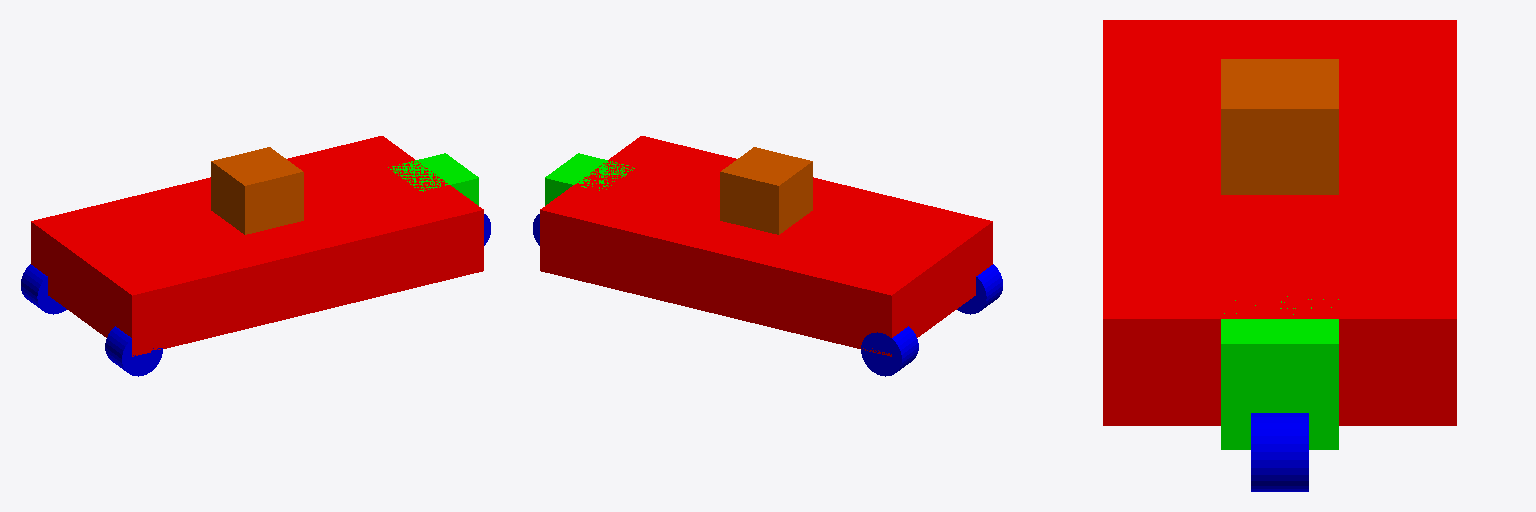
The robot description file, URDF, robot "explorer":
<?xml version="1.0" ?>
    <robot name="explorer">
        <!--<link name="world"/> -->

        <link name="base">
            <visual>
                <geometry>
                    <box size="0.6 0.3 0.1"/>
                </geometry> 

                <material name = "red">
                    <color rgba="1 0 0 1"/>
                </material>
            </visual>

            <collision>
                <geometry>
                     <box size="0.6 0.3 0.1"/>
                </geometry> 
             </collision>

            <inertial>
                <mass value="1.0"/>
                <inertia ixx="0.00833" ixy="0" ixz="0" iyy="0.0308" iyz="0.0" izz="0.0375"/>
            </inertial> 

        </link>

        <!--<joint name="base_joint" type="fixed">
            <parent link="world"/>
            <child link="base"/>
        </joint>-->

        <link name="front_caster_of_wheel">
            <visual>
                <geometry>
                    <box size = "0.1 0.1 0.1"/>
                </geometry> 

                <material name = "Green">
                    <color rgba="0 1 0 1"/>
                </material>
            </visual>

            <collision>
                <geometry>
                     <box size="0.1 0.1 0.1"/>
                </geometry> 
             </collision>

            <inertial>
                <mass value="0.1"/>
                <inertia ixx="0.000167" ixy="0" ixz="0" iyy="0.000167" iyz="0.0" izz="0.000167"/>
            </inertial>


        </link>

        <joint name="front_caster_of_wheel_joint" type="continuous">
            <axis xyz="0.0 0.0 1"/>
            <parent link="base"/>
            <child link="front_caster_of_wheel"/>
            <origin xyz="0.3 0.0 0.0" rpy="0.0 0.0 0.0"/>
        </joint> 

        <link name="front_wheel">
            <visual>
                <geometry>
                    <cylinder radius="0.035" length="0.05"/>
                </geometry> 

                <material name = "Blue">
                    <color rgba="0 0 1 1"/>
                </material>
            </visual>

            <collision>
                <geometry>
                     <cylinder radius="0.035" length="0.05"/>
                </geometry> 
             </collision>

            <inertial>
                <mass value="0.1"/>
                <inertia ixx="5.1458e-5" ixy="0" ixz="0" iyy="5.1458e-5" iyz="0.0" izz="6.125e-5"/>
            </inertial>

        </link>

        <joint name="front_wheel_joint" type="continuous">
            <axis xyz="0.0 0.0 1"/>
            <parent link="front_caster_of_wheel"/>
            <child link="front_wheel"/>
            <origin xyz="0.05 0.0 -0.05" rpy="-1.5708 0.0 0.0"/>
        </joint> 

        <link name="right_wheel">
            <visual>
                <geometry>
                    <cylinder radius="0.035" length="0.05"/>
                </geometry> 

                <material name = "Blue">
                    <color rgba="0 0 1 1"/>
                </material>
            </visual>

            <collision>
                <geometry>
                    <cylinder radius="0.035" length="0.05"/>
                </geometry> 
             </collision>

            <inertial>
                <origin xyz="0.0 0.0 0.0" rpy="0.0 0.0 0.0"/>
                <mass value="0.1"/>
                <inertia ixx="5.1458e-5" ixy="0" ixz="0" iyy="5.1458e-5" iyz="0.0" izz="6.125e-5"/>
            </inertial>

        </link>

        <joint name="right_wheel_joint" type="continuous">
            <axis xyz="0.0 0.0 1"/>
            <parent link="base"/>
            <child link="right_wheel"/>
            <origin xyz="-0.2825 -0.125 -0.05" rpy="-1.5708 0.0 0.0"/>
        </joint> 

        <link name="left_wheel">
            <visual>
                <geometry>
                    <cylinder radius="0.035" length="0.05"/>
                </geometry> 

                <material name = "Blue">
                    <color rgba="0 0 1 1"/>
                </material>
            </visual>

            <collision>
                <geometry>
                     <cylinder radius="0.035" length="0.05"/>
                </geometry> 
             </collision>

            <inertial>
                <mass value="0.1"/>
                <inertia ixx="5.1458e-5" ixy="0" ixz="0" iyy="5.1458e-5" iyz="0.0" izz="6.125e-5"/>
            </inertial>

        </link>

        <joint name="left_wheel_joint" type="continuous">
            <axis xyz="0.0 0.0 1"/>
            <parent link="base"/>
            <child link="left_wheel"/>
            <origin xyz="-0.2825 0.125 -0.05" rpy="-1.5708 0.0 0.0"/>
        </joint> 

        <link name="laser_scanner">
            <visual>
                <geometry>
                    <box size="0.1 0.1 0.1"/>
                </geometry>
            </visual>
    
            <collision>
                <geometry>
                    <box size="0.1 0.1 0.1"/>
                </geometry>
            </collision>
    
            <inertial>
                <mass value="1e-5"/>
                <inertia ixx="1e-6" ixy="0" ixz="0.0" iyy="1e-6" iyz="0.0" izz="1e-6"/>
            </inertial>
        </link>
    
        <joint name="laser_scanner_joint" type="fixed">
            <axis xyz="0.0 1 0.0"/>
            <parent link="base"/>
            <child link="laser_scanner"/>
            <origin xyz="0.0 0.0 0.08" rpy="0.0 0.0 0.0"/>
        </joint>
    
        <gazebo reference="laser_scanner">
            <sensor type="ray" name="laser">
                <pose>0 0 0 0 0 0</pose>
                <visualize>true</visualize>
                <update_rate>40</update_rate>

                <ray>
                    <scan>
                        <horizontal>
                            <samples>720</samples>
                            <resolution>1</resolution>
                            <min_angle>-1.578</min_angle>
                            <max_angle>1.578</max_angle>
                        </horizontal>
                    </scan>
                    <range>
                        <min>0.1</min>
                        <max>10</max>
                        <resolution>0.1</resolution>
                    </range>
                </ray>

                <plugin name="Lidar" filename="libgazebo_ros_laser.so">
                    <topicName>scan</topicName>
                    <frameName>laser_scanner</frameName>
                </plugin>
                
            </sensor>
        </gazebo>

        <gazebo>
            <plugin name="explorer_bot_controller" filename="libgazebo_ros_diff_drive.so">
                <leftJoint>left_wheel_joint</leftJoint>
                <rightJoint>right_wheel_joint</rightJoint>
                <legacyMode>false</legacyMode>
                <robotBaseFrame>base</robotBaseFrame>
                <wheelSeparation>0.25</wheelSeparation>
                <wheelDiameter>0.07</wheelDiameter>
                <publishWheelJointState>true</publishWheelJointState>
                <odometryTopic>odom1</odometryTopic>
                <odometryFrame>odom</odometryFrame>
                <publishOdomTF>false</publishOdomTF>
            </plugin>
        </gazebo>

        <gazebo>
            <plugin name="joint_state_publisher" filename="libgazebo_ros_joint_state_publisher.so">
                <jointName>front_caster_of_wheel_joint, front_wheel_joint</jointName>
            </plugin>
        </gazebo>

        <gazebo reference="base">
            <material>Gazebo/Orange</material>
        </gazebo>
        <gazebo reference="front_caster_of_wheel">
            <material>Gazebo/Red</material>
        </gazebo>
        <gazebo reference="front_wheel">
            <material>Gazebo/Black</material>
        </gazebo>
        <gazebo reference="left_wheel">
            <material>Gazebo/Black</material>
        </gazebo>
        <gazebo reference="right_wheel">
            <material>Gazebo/Black</material>
        </gazebo>

        <gazebo>
            <plugin name="imu_plugin" filename="libgazebo_ros_imu.so">
              <alwaysOn>true</alwaysOn>
              <bodyName>base</bodyName>
              <topicName>/imu/data</topicName>
              <serviceName>imu_service</serviceName>
              <gaussianNoise>0.0</gaussianNoise>
              <updateRate>20.0</updateRate>
            </plugin>
        </gazebo>

    </robot>

--- Facts derived from the render (not from the file) ---
Views: 3 orthographic renders of the robot side by side, from view 1: azimuth 30°, elevation 25°; view 2: azimuth 150°, elevation 25°; view 3: azimuth 270°, elevation 25°.
Model explorer with 6 links and 5 joints (4 continuous, 1 fixed), rooted at base, posed all joints at 0.
Links seen in each view (by area): view 1: base, laser_scanner, front_caster_of_wheel, right_wheel, left_wheel; view 2: base, laser_scanner, left_wheel, front_caster_of_wheel, right_wheel; view 3: base, laser_scanner, front_caster_of_wheel, front_wheel.
Boxes of the visible links, x1=… form: base: x1=31, y1=136, x2=483, y2=356; laser_scanner: x1=211, y1=147, x2=303, y2=234; front_caster_of_wheel: x1=388, y1=153, x2=478, y2=205; right_wheel: x1=105, y1=326, x2=162, y2=376; left_wheel: x1=21, y1=264, x2=66, y2=314; base: x1=540, y1=136, x2=992, y2=356; laser_scanner: x1=720, y1=147, x2=812, y2=234; left_wheel: x1=861, y1=326, x2=918, y2=376; front_caster_of_wheel: x1=545, y1=153, x2=634, y2=205; right_wheel: x1=957, y1=264, x2=1002, y2=314; base: x1=1103, y1=20, x2=1456, y2=425; laser_scanner: x1=1221, y1=59, x2=1338, y2=194; front_caster_of_wheel: x1=1221, y1=296, x2=1338, y2=449; front_wheel: x1=1251, y1=413, x2=1308, y2=491.
Size in the robot's own frame: 0.7025 by 0.3 by 0.215 metres.
Geometry: primitives only (box / cylinder / sphere), no mesh files.
